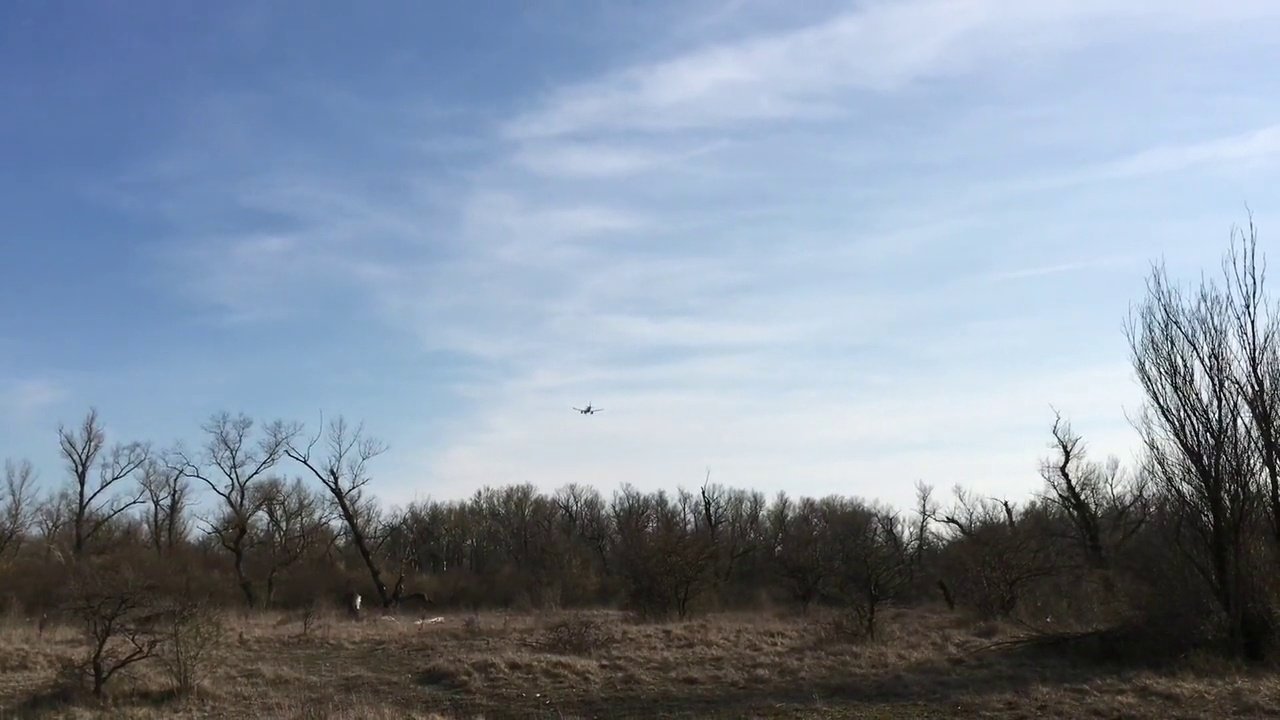plane: (573, 401, 604, 415)
